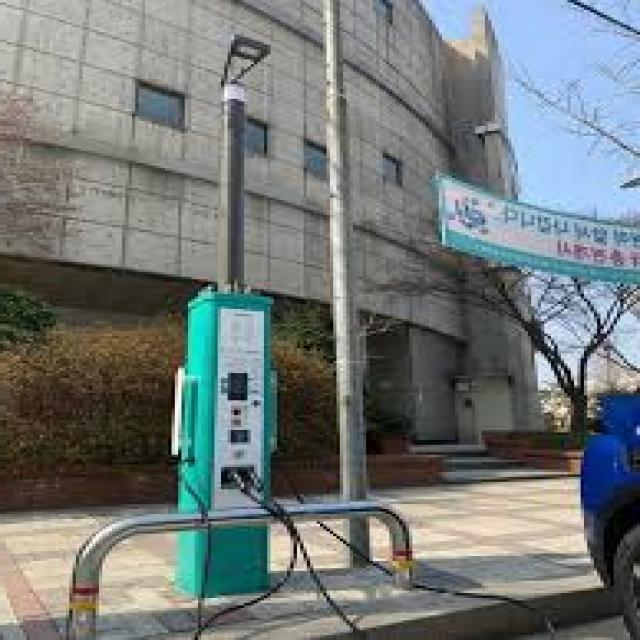bollard: (50, 489, 426, 640)
